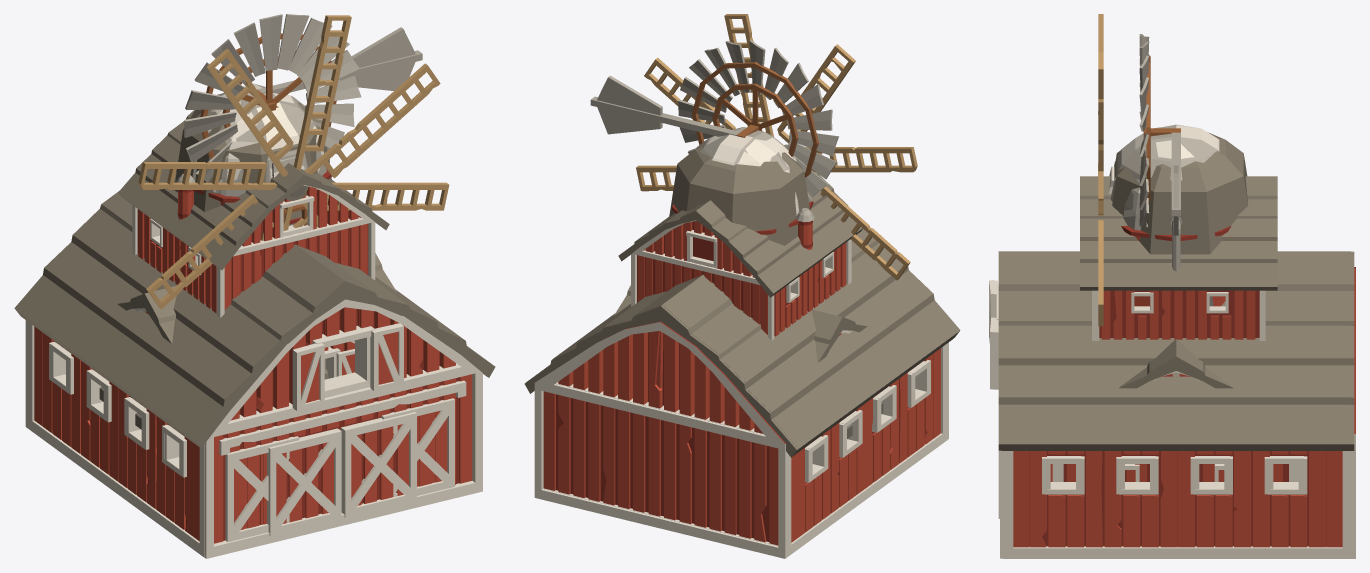
File: farm.glb
3 views of the same model, side by side, from view 1: azimuth 30°, elevation 25°; view 2: azimuth 150°, elevation 25°; view 3: azimuth 270°, elevation 25° (orthographic). The views are drawn at different scales.
Parts seen in each view (by area): view 1: Barn, BigBarn, TowerWindmill, Windmill, Silo_House, Silo, OpenBarn, SmallBarn; view 2: BigBarn, Barn, TowerWindmill, Windmill, Silo, Silo_House, OpenBarn; view 3: Barn, BigBarn, TowerWindmill, Windmill, Silo_House, OpenBarn, Silo, SmallBarn.
Boxes of the visible parts, x1,y1,x2,y2 form: Barn: [16, 193, 495, 558]; BigBarn: [14, 110, 486, 557]; TowerWindmill: [138, 15, 449, 309]; Windmill: [184, 14, 422, 192]; Silo_House: [99, 84, 331, 429]; Silo: [192, 83, 331, 225]; OpenBarn: [117, 253, 396, 379]; SmallBarn: [324, 340, 354, 429]; BigBarn: [524, 144, 958, 558]; Barn: [526, 229, 960, 545]; TowerWindmill: [636, 14, 917, 280]; Windmill: [590, 40, 838, 202]; Silo: [672, 128, 813, 233]; Silo_House: [672, 127, 883, 438]; OpenBarn: [614, 285, 867, 362]; Barn: [989, 251, 1352, 558]; BigBarn: [993, 176, 1355, 558]; TowerWindmill: [1098, 14, 1248, 326]; Windmill: [1139, 34, 1180, 235]; Silo_House: [1109, 125, 1231, 271]; OpenBarn: [1052, 339, 1298, 481]; Silo: [1108, 124, 1230, 306]; SmallBarn: [1053, 464, 1296, 481].
Size of the model in its own units: 8.2 by 12.03 by 8.3.
